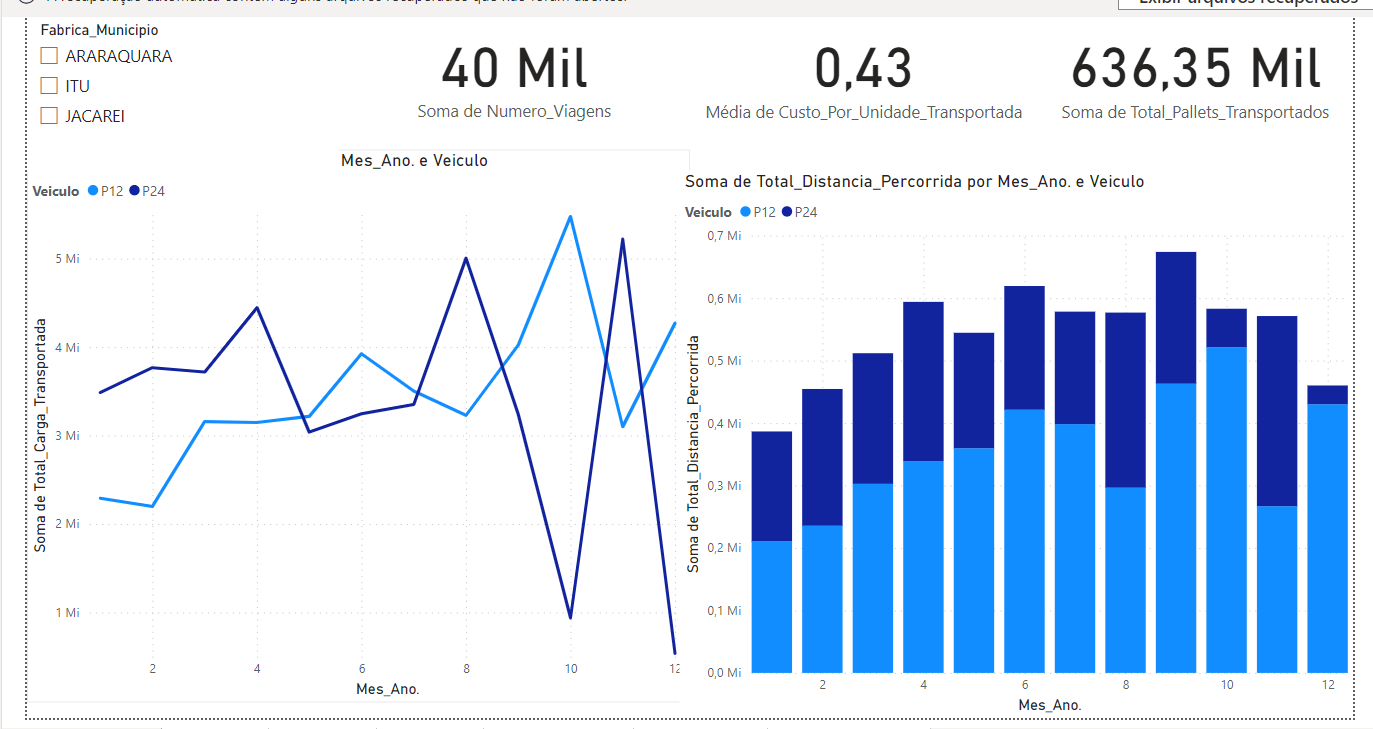

Layout of this report page (visuals, bound fields, positions):
{"tool":"powerbi","page":{"name":"PRODUTIVIDADE ","canvas":[1280,720],"ordinal":3},"visuals":[{"type":"lineChart","title":"CUSTO POR VALOR TRASNPORTADO","fields":{"Category":["galacticos view_analises_bi.Mes_Ano."],"Series":["galacticos view_analises_bi.Veiculo"],"Y":["Sum(galacticos view_analises_bi.Custo_Por_Unidade_Transportada)"]},"box":[11,451.2,1259.5,253.1],"z":0},{"type":"slicer","fields":{"Values":["galacticos view_analises_bi.Fabrica_Municipio"]},"box":[11,9.8,283.7,105.2],"z":1000},{"type":"lineStackedColumnComboChart","title":"DISTÂNCIA PERCORRIDA","fields":{"Category":["galacticos view_analises_bi.Mes_Ano."],"Y":["Sum(galacticos view_analises_bi.Total_Distancia_Percorrida)"],"Series":["galacticos view_analises_bi.Veiculo"]},"box":[11,126,1259.5,314.3],"z":2000},{"type":"card","title":"TOTAL DE VIAGENS","fields":{"Values":["Sum(galacticos view_analises_bi.Numero_Viagens)"]},"box":[342.4,8.6,283.7,106.4],"z":3000},{"type":"card","title":"MÉDIA DE CUSTO POR UN","fields":{"Values":["Avg(galacticos view_analises_bi.Custo_Por_Unidade_Transportada)"]},"box":[666.4,9.8,283.7,105.2],"z":4000},{"type":"card","title":"TOTAL DE PALETES TRANSPORTADOS","fields":{"Values":["Sum(galacticos view_analises_bi.Total_Pallets_Transportados)"]},"box":[986.8,9.8,283.7,105.2],"z":5000}]}

Visuals, with their boxes on the page's 1280x720 design canvas (x1, y1, x2, y2). These are canvas units, not pixel positions in the 1373x729 screenshot, which may show the page scaled, cropped or inside an application window:
"CUSTO POR VALOR TRASNPORTADO" lineChart: [11,451,1270,704]
slicer - galacticos view_analises_bi.Fabrica_Municipio: [11,10,295,115]
"DISTÂNCIA PERCORRIDA" lineStackedColumnComboChart: [11,126,1270,440]
"TOTAL DE VIAGENS" card: [342,9,626,115]
"MÉDIA DE CUSTO POR UN" card: [666,10,950,115]
"TOTAL DE PALETES TRANSPORTADOS" card: [987,10,1270,115]
